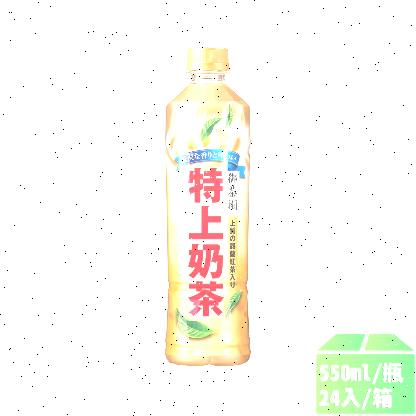Plastic Bottle: (165, 47, 251, 366)
